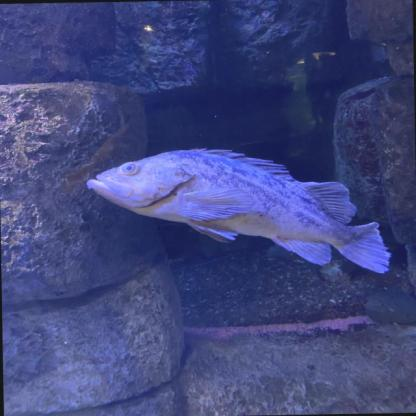fish: (85, 134, 399, 274)
